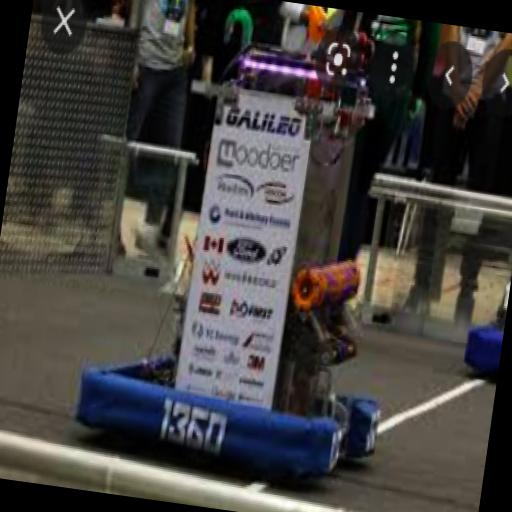robot: (72, 8, 436, 476)
